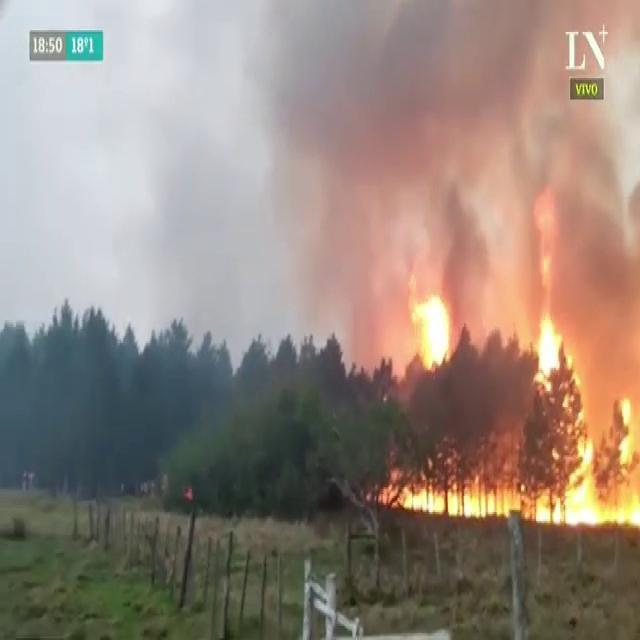Fire: (376, 473, 630, 530), (533, 300, 577, 406), (410, 283, 451, 372)
Smoke: (261, 0, 409, 336), (412, 0, 489, 294), (575, 138, 640, 436), (493, 4, 536, 362)
